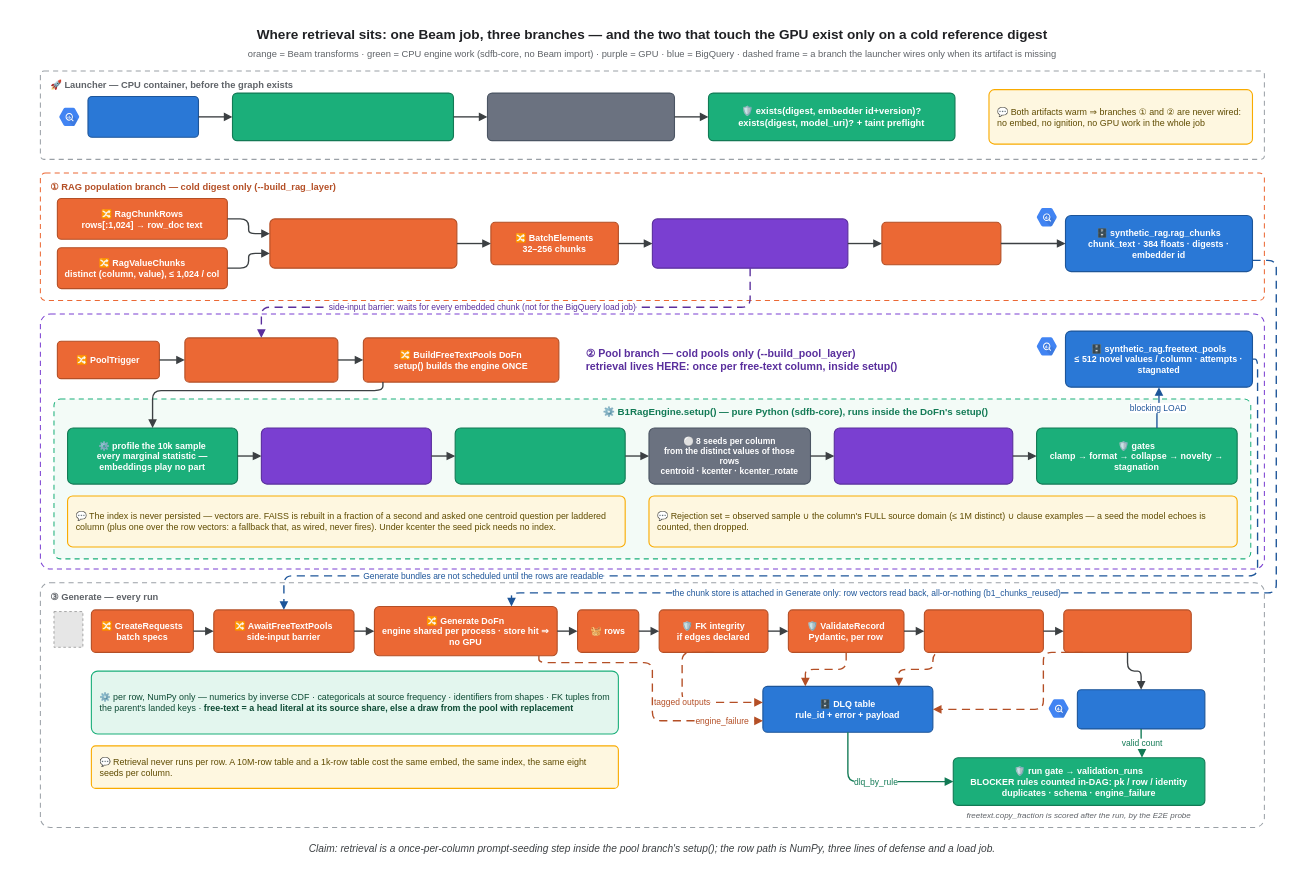
This 1304x887 diagram has some shape labels left out. Grey dashed boxes stand in for pictures. The shapes that lost their labels are listed below. From the top down, each one's centre as x and y in pixels, then its label:
point 143,116: 🗄️ source table
point 343,116: ⚙️ reference sample ORDER BY FARM_FINGERPRINT · LIMIT 10,000
point 581,116: ⚪ reference_digest sha256 over the canonical rows
point 363,243: 🔀 Flatten → RagShard 2 keyed groups ⇒ ≤ 2 embedders, whatever the topology
point 749,243: 🧠 RagEmbedChunks bge-small on the GPU (auto) · demotes in teardown()
point 941,243: 🔀 WriteRagChunks load job
point 261,359: 🔀 AwaitRagPopulation side-input barrier
point 346,455: 🧠 embed rows[:1,024] GPU (auto) → demote to CPU no chunk store is attached here
point 539,455: ⚙️ FAISS IndexFlatIP exact · in RAM · ≤ 1,024 × 384 1 centroid query per column
point 923,455: 🧠 vLLM ladder instructions + 8 seeds + clause guided JSON · n=4 × 32 values
point 983,631: 🛡️ PanderaValidate batches of 1k–10k
point 1127,631: 🛡️ EnforceUniqueness row · PK · identity
point 1140,709: 🗄️ landing table
